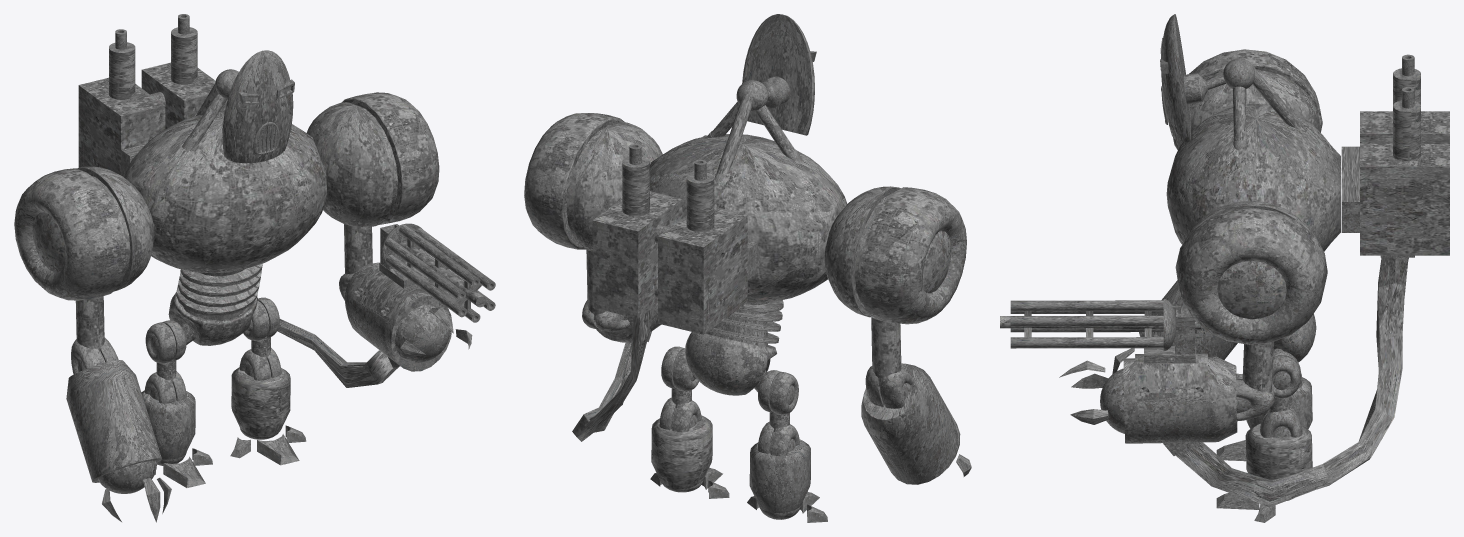
The model's file is Robot.fbx.
3 views of the same model, side by side, from view 1: azimuth 30°, elevation 25°; view 2: azimuth 150°, elevation 25°; view 3: azimuth 270°, elevation 25° (orthographic). The views are drawn at different scales.
Parts seen in each view (by area): view 1: polySurface125, polySurface67, polySurface13, polySurface197, polySurface204, polySurface82, polySurface205, polySurface186, polySurface158, polySurface15, pPipe6, polySurface159 (+25 smaller); view 2: polySurface67, polySurface125, polySurface13, polySurface197, polySurface205, polySurface82, polySurface204, polySurface50, polySurface15, polySurface158, polySurface159, pPipe6 (+18 smaller); view 3: polySurface125, polySurface67, polySurface205, pPipe6, polySurface186, polySurface203, polySurface99, polySurface158, polySurface15, polySurface82, polySurface13, polySurface167 (+22 smaller).
Part boxes in pixels (x1,y1,x2,y2): polySurface125: [124, 110, 326, 273]; polySurface67: [78, 14, 227, 175]; polySurface13: [14, 168, 126, 300]; polySurface197: [66, 360, 161, 482]; polySurface204: [306, 102, 392, 227]; polySurface82: [222, 50, 294, 163]; polySurface205: [342, 92, 439, 224]; polySurface186: [344, 262, 451, 371]; polySurface158: [231, 367, 290, 436]; polySurface15: [77, 166, 154, 291]; pPipe6: [277, 319, 399, 387]; polySurface159: [141, 390, 195, 459]; polySurface67: [592, 144, 747, 334]; polySurface125: [650, 134, 847, 302]; polySurface13: [859, 187, 966, 324]; polySurface197: [861, 363, 960, 484]; polySurface205: [524, 113, 624, 249]; polySurface82: [742, 14, 816, 135]; polySurface204: [573, 122, 662, 251]; polySurface50: [685, 332, 776, 395]; polySurface15: [824, 186, 900, 317]; polySurface158: [651, 415, 712, 488]; polySurface159: [749, 439, 810, 512]; pPipe6: [572, 309, 652, 441]; polySurface125: [1166, 103, 1340, 251]; polySurface67: [1360, 54, 1449, 255]; polySurface205: [1175, 208, 1327, 344]; pPipe6: [1175, 257, 1408, 507]; polySurface186: [1123, 356, 1237, 443]; polySurface203: [1217, 260, 1286, 319]; polySurface99: [1135, 353, 1208, 401]; polySurface158: [1245, 423, 1312, 480]; polySurface15: [1176, 69, 1320, 148]; polySurface82: [1160, 14, 1190, 142]; polySurface13: [1173, 49, 1322, 149]; polySurface167: [1010, 315, 1163, 326].
Bounding box in the file's own units: 13.43 × 14.9 × 13.12.
